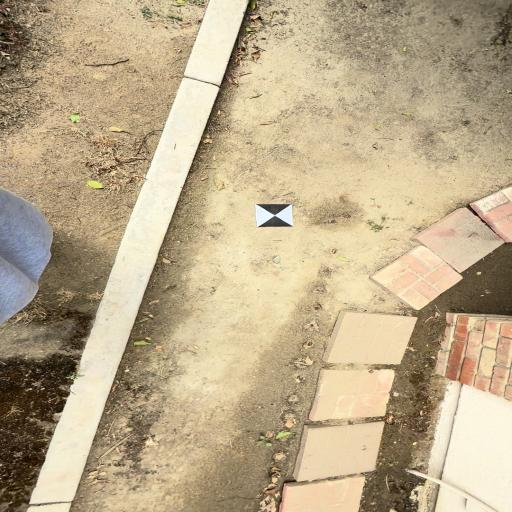target: (255, 204, 294, 227)
